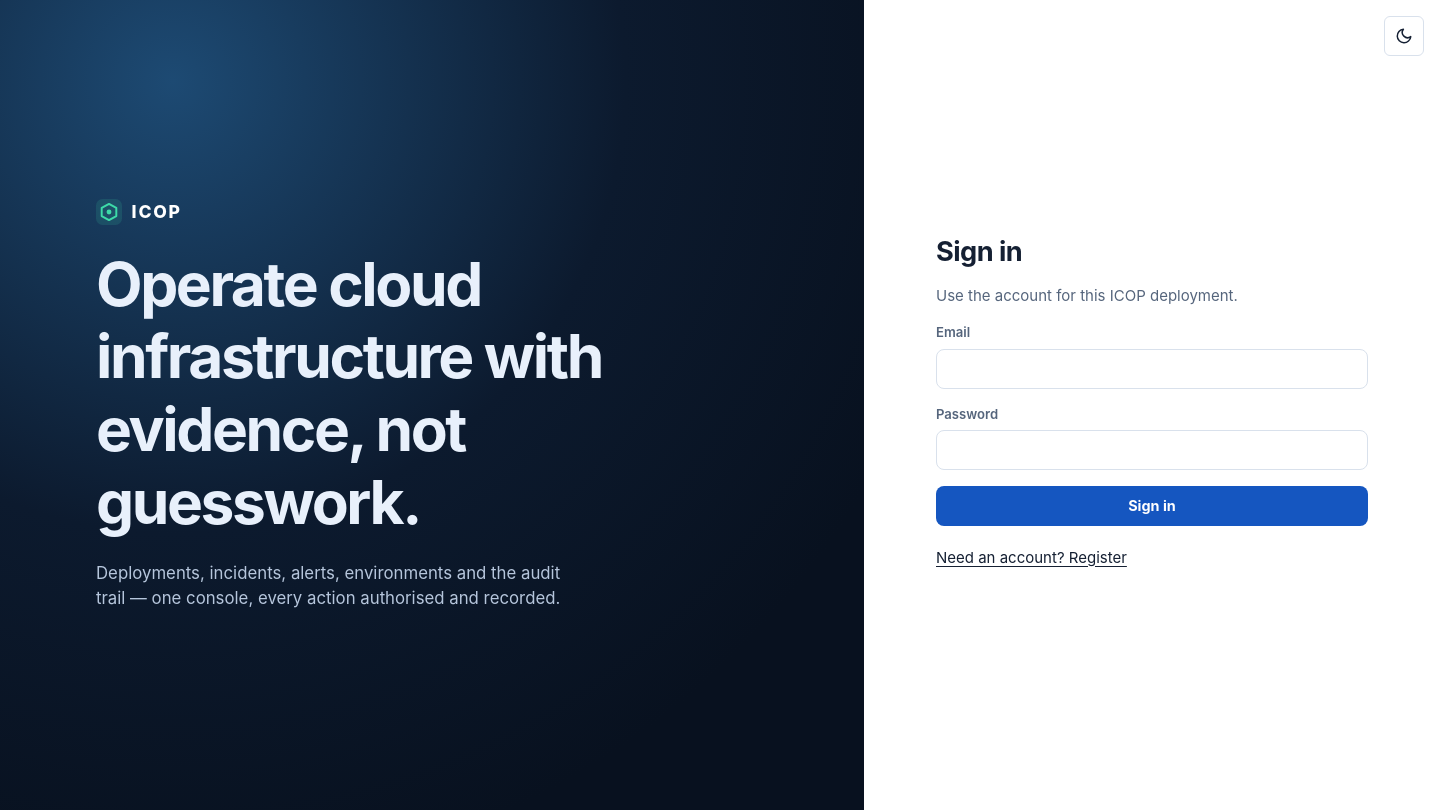
Test: signed out › shows the server's error message and moves focus to it when sign-in fails
Type "me@example.com" into the field labelled "Email".
click(1152, 368); type("me@example.com")  # box [936,348,1368,388]
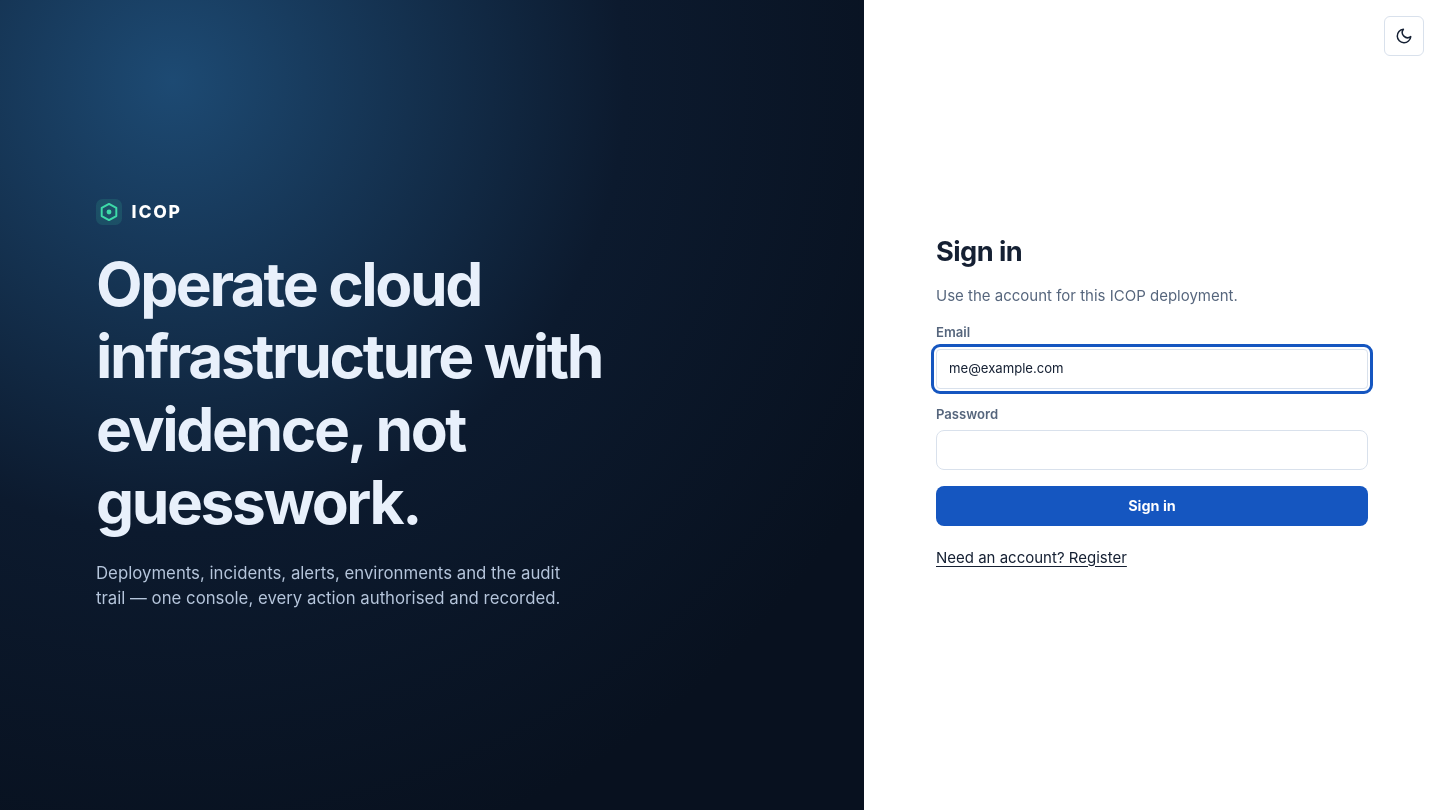
Type "wrongpassword" into the password field labelled "Password".
click(1152, 450); type("wrongpassword")  # box [936,430,1368,470]
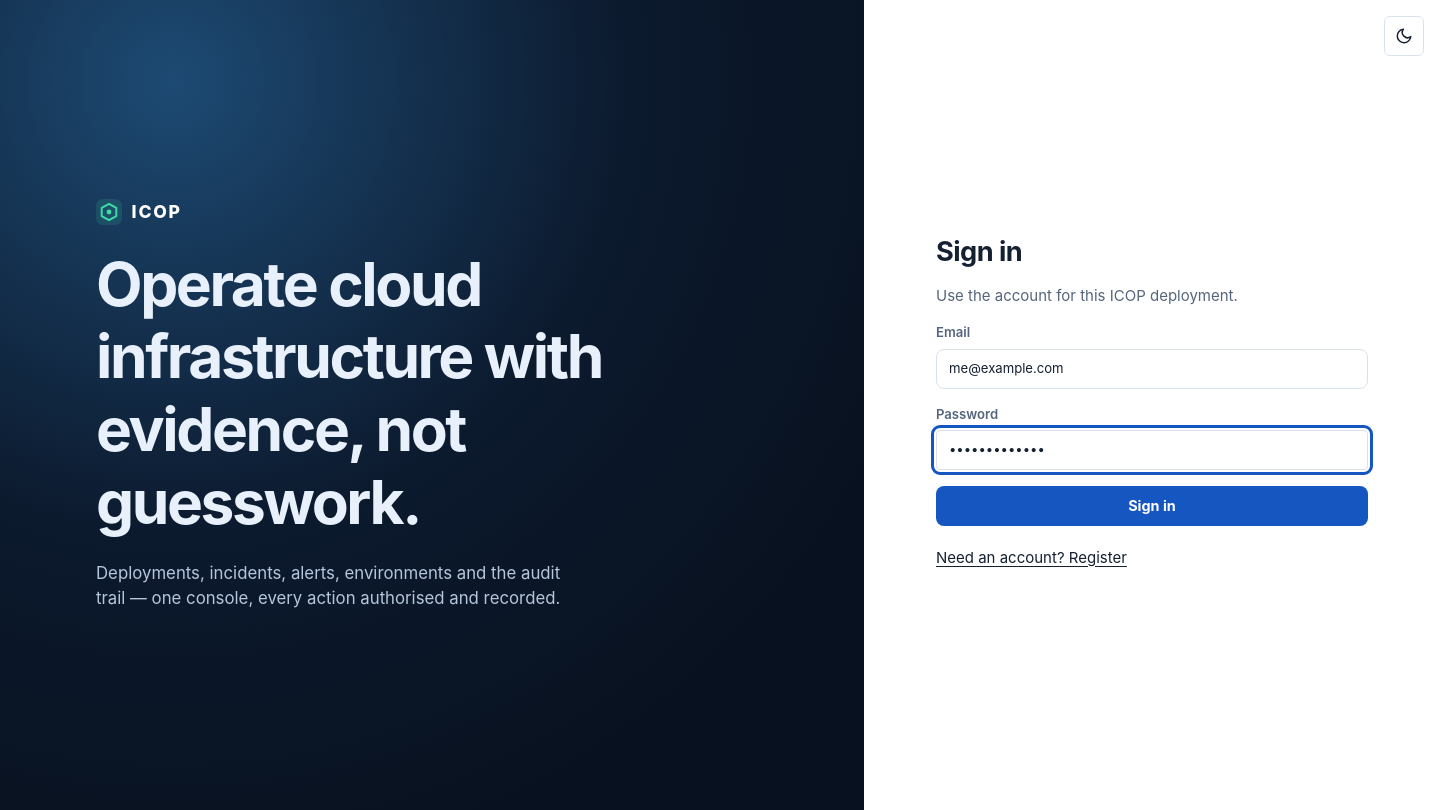
Click the button "Sign in".
click(1152, 506)  # box [936,486,1368,526]
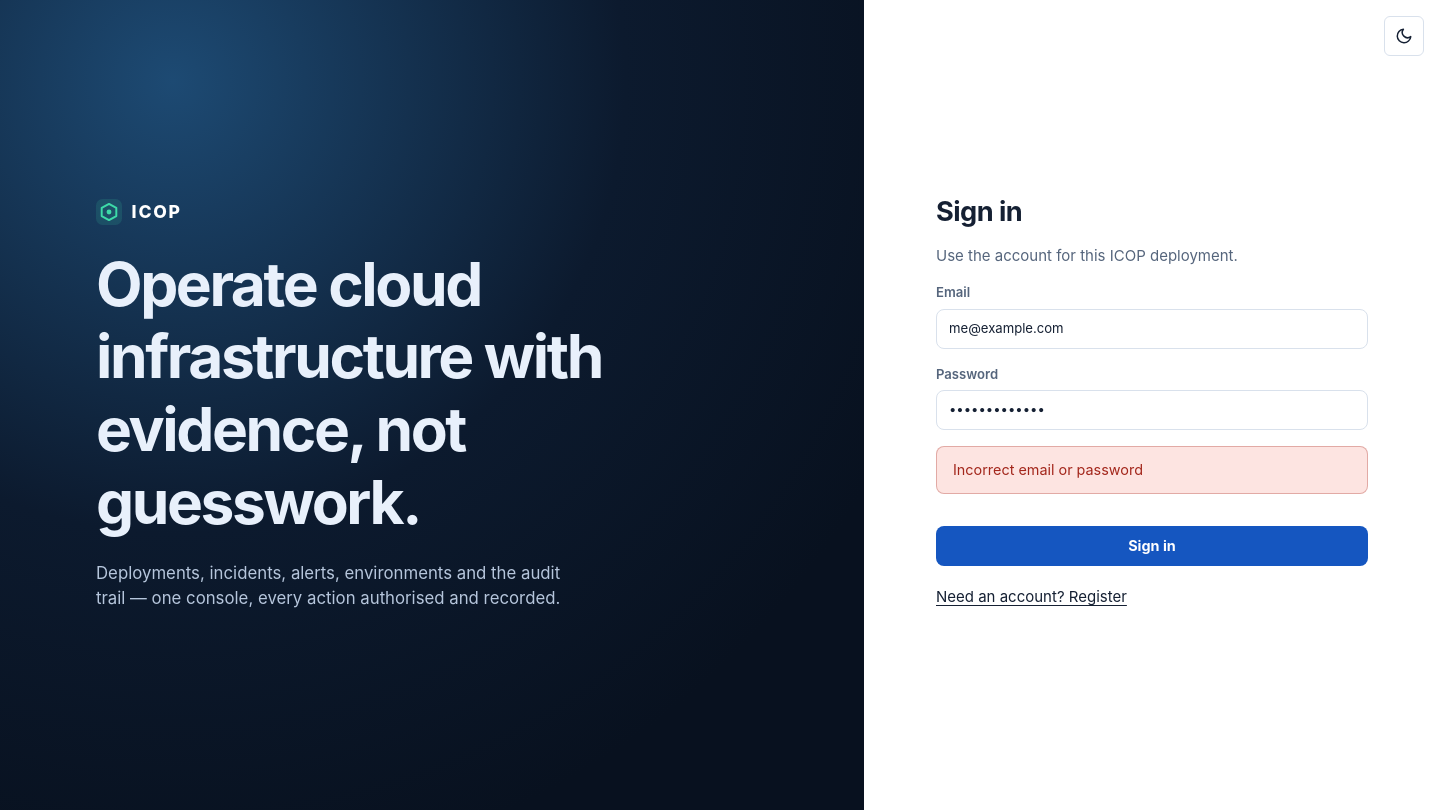
Check: the message reads "Incorrect email or password", box [953,461,1143,478]
